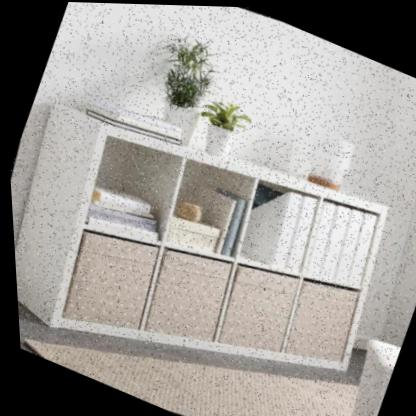Shelf: (3, 58, 416, 416)
